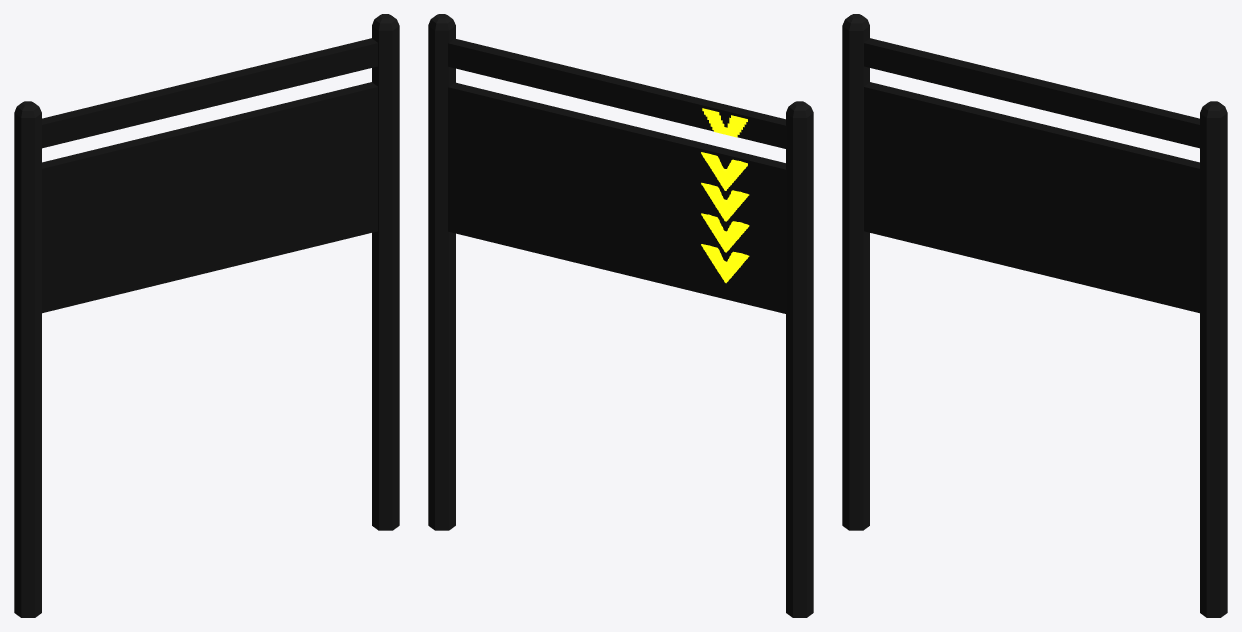
Rendered from down_obstacle.glb.
The picture shows the model from 3 angles, left to right: view 1: azimuth 30°, elevation 25°; view 2: azimuth 150°, elevation 25°; view 3: azimuth 330°, elevation 25°; orthographic projection.
Visible parts, largest first — view 1: down.001; view 2: down.001; view 3: down.001.
Boxes of the visible parts, left/top/right/bottom form: down.001: left=14, top=14, right=399, bottom=617; down.001: left=428, top=14, right=813, bottom=617; down.001: left=842, top=14, right=1227, bottom=617.
Size of the model in its own units: 6.8 by 8.75 by 0.4332.
4 materials, 2 textured.
